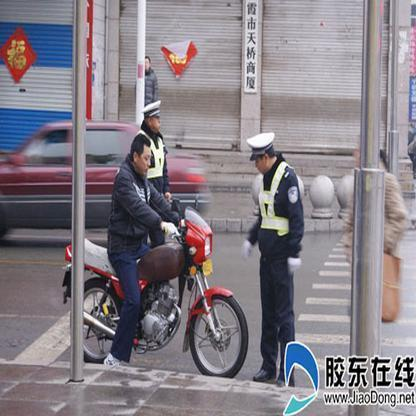target: (67, 129, 247, 382)
